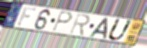6: (34, 9, 52, 31)
A: (89, 17, 110, 40)
F: (16, 6, 37, 27)
P: (52, 11, 74, 32)
R: (68, 13, 91, 37)
U: (106, 18, 134, 42)
